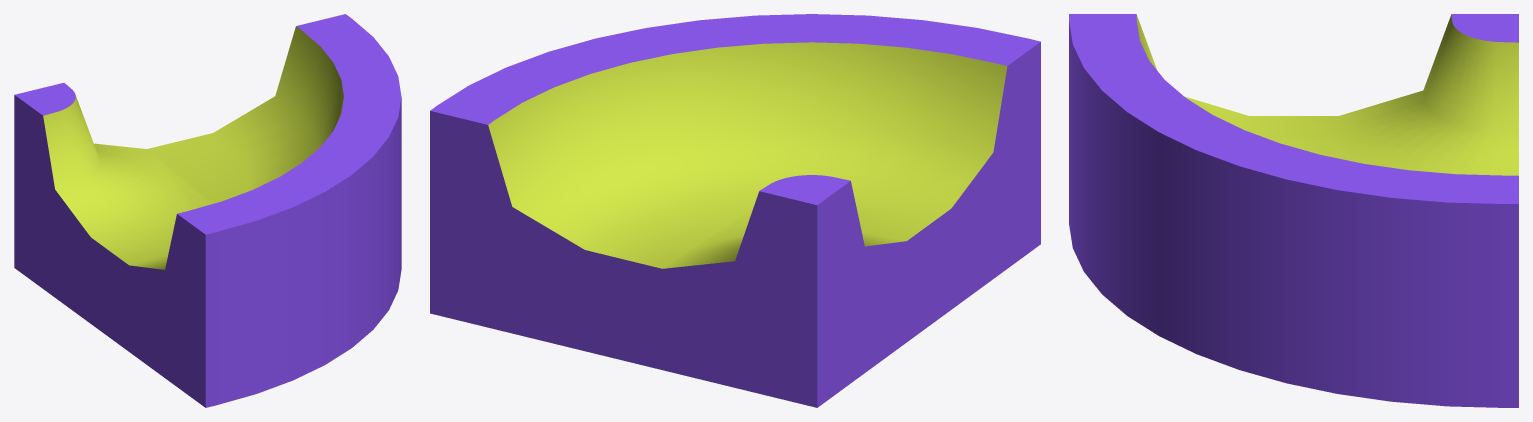
Rendered from corner.obj.
3 views of the same model, side by side, from view 1: azimuth 30°, elevation 25°; view 2: azimuth 150°, elevation 25°; view 3: azimuth 270°, elevation 25° (orthographic). The views are drawn at different scales.
Visible parts, largest first — view 1: corner; view 2: corner; view 3: corner.
Part boxes in pixels (x1=…): corner: x1=14, y1=14, x2=401, y2=407; corner: x1=430, y1=14, x2=1040, y2=407; corner: x1=1069, y1=14, x2=1518, y2=407.
Bounding box in the file's own units: 1 × 0.5 × 1.
